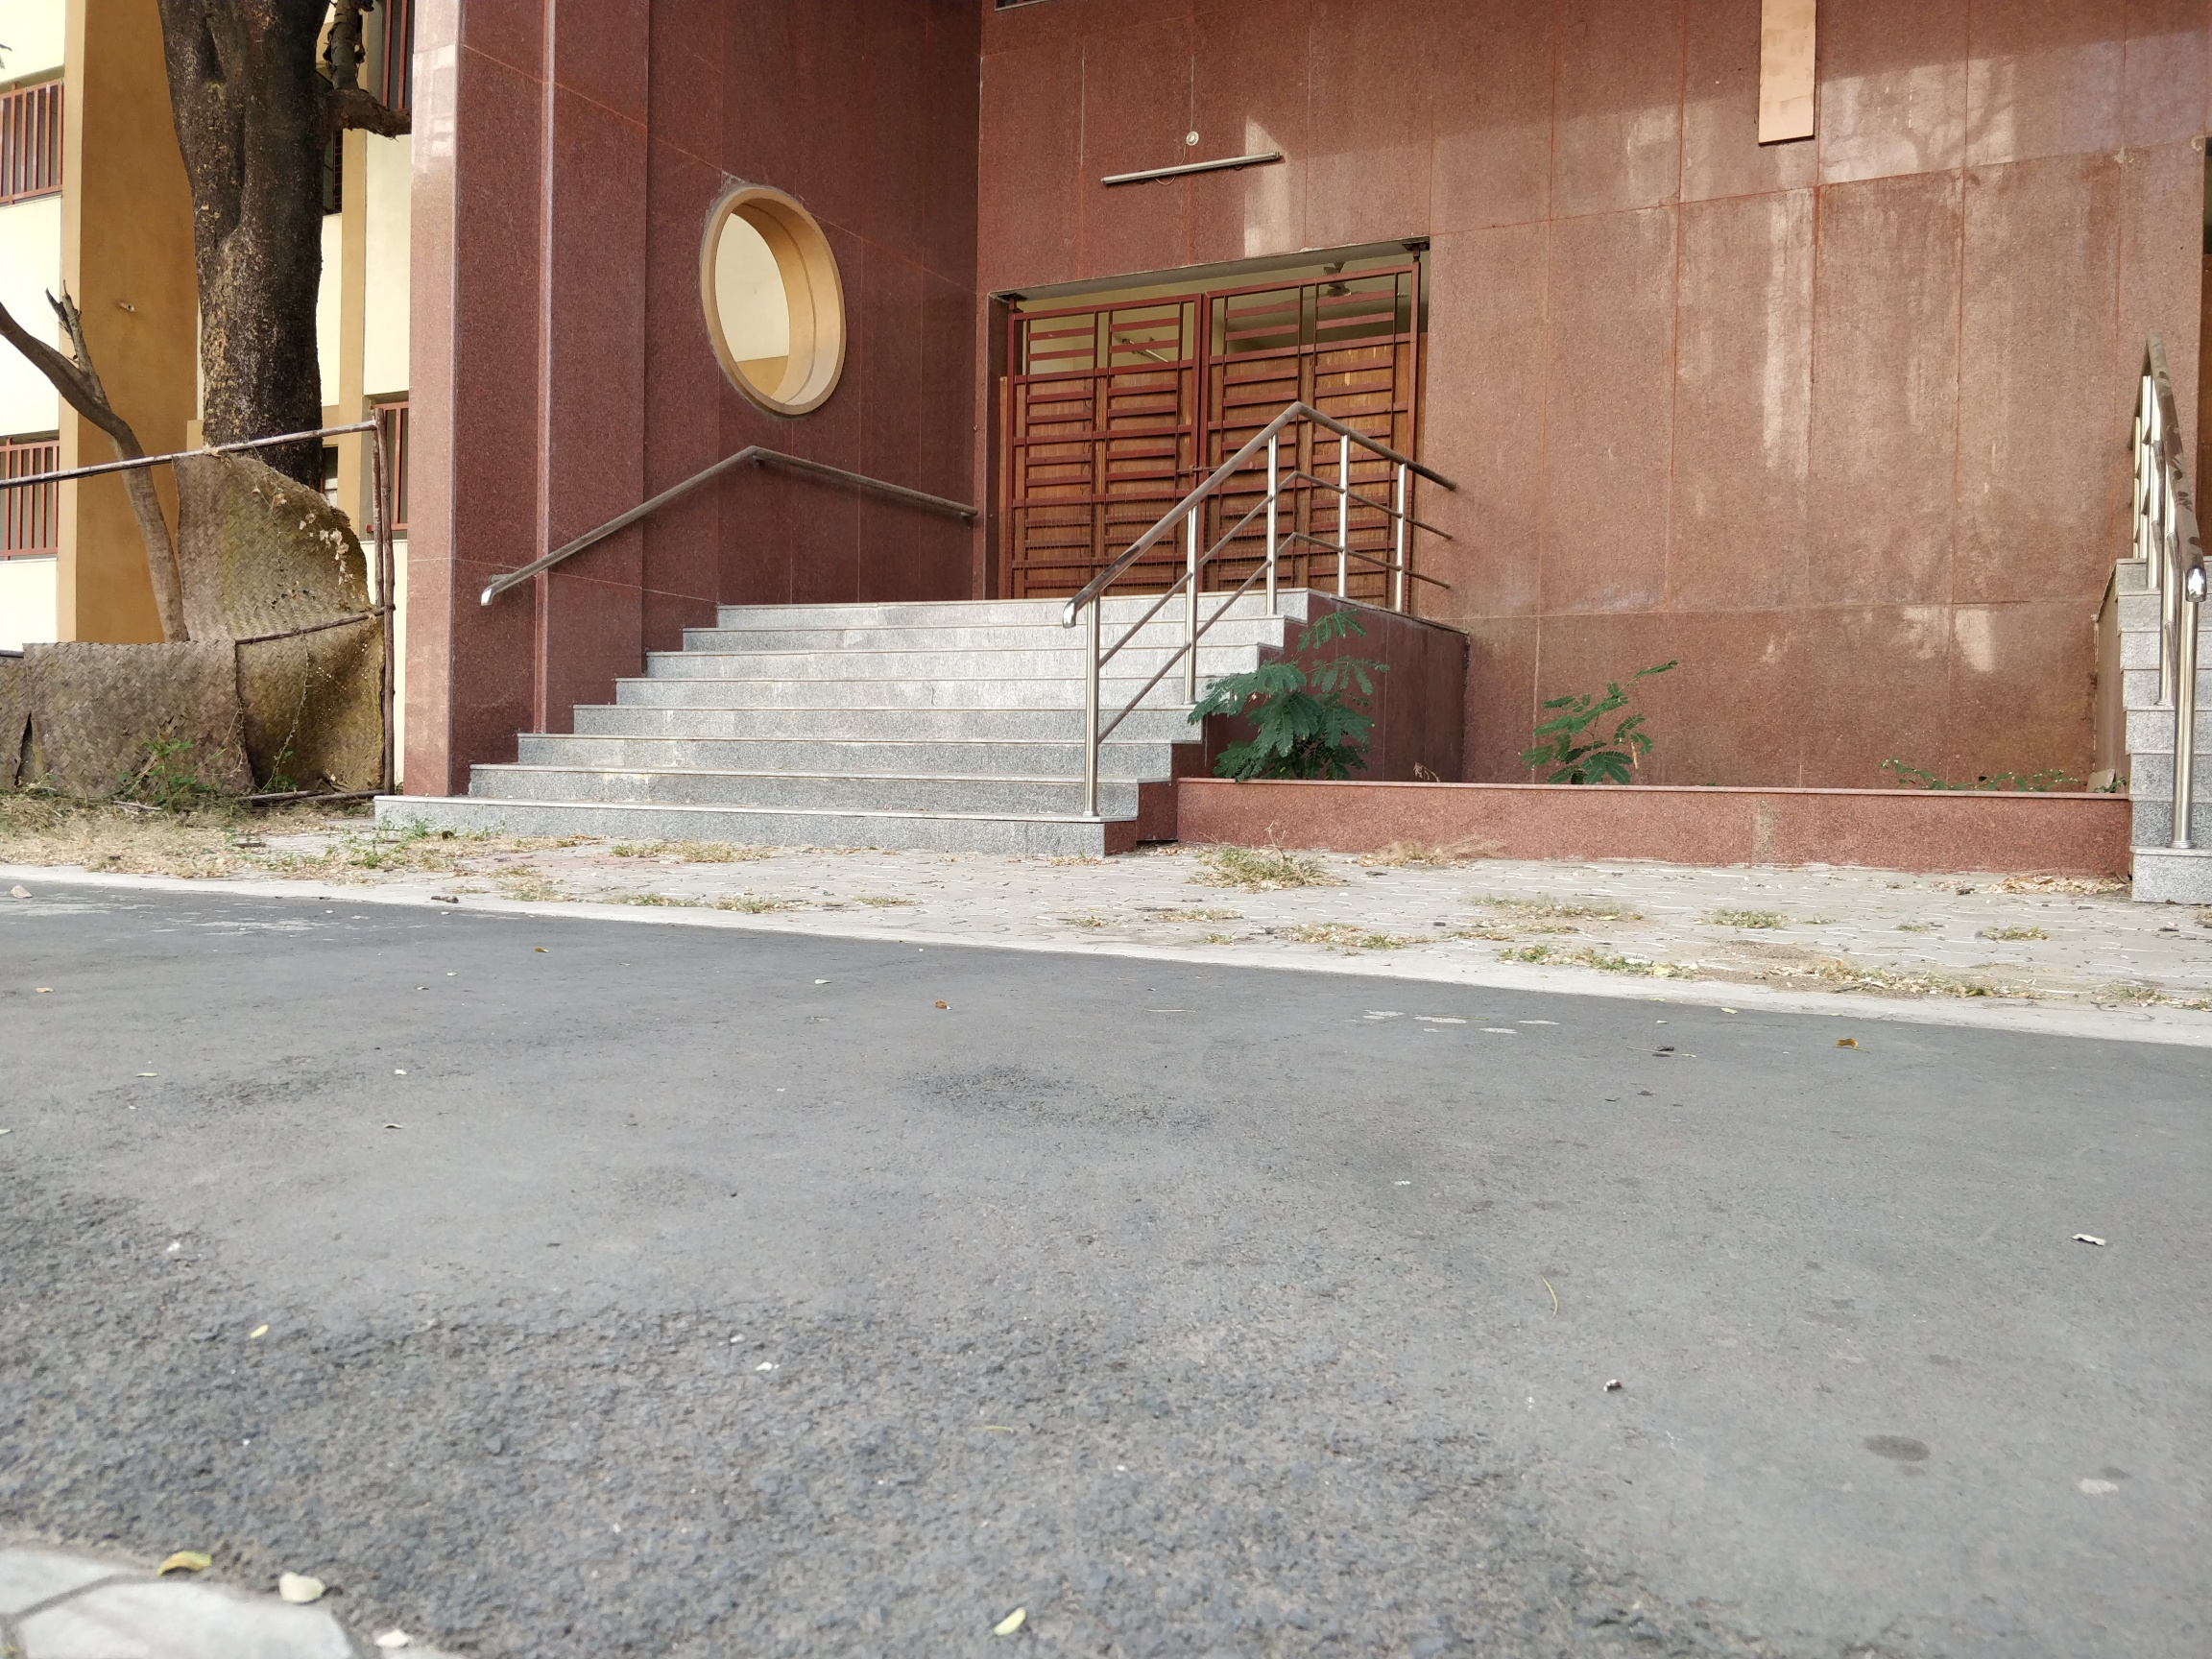stairs_up: (371, 589, 1294, 833)
